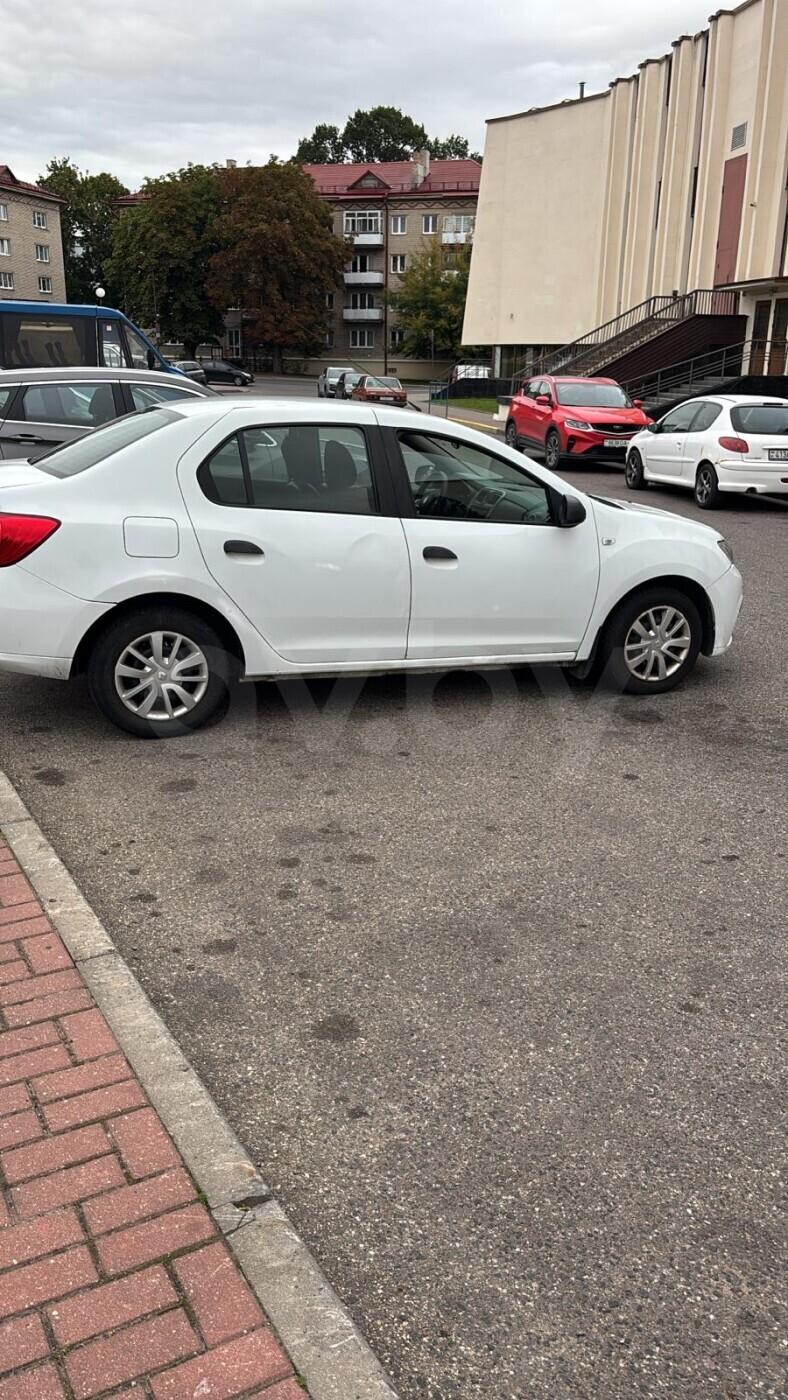Logan_2018: (0, 402, 754, 724)
